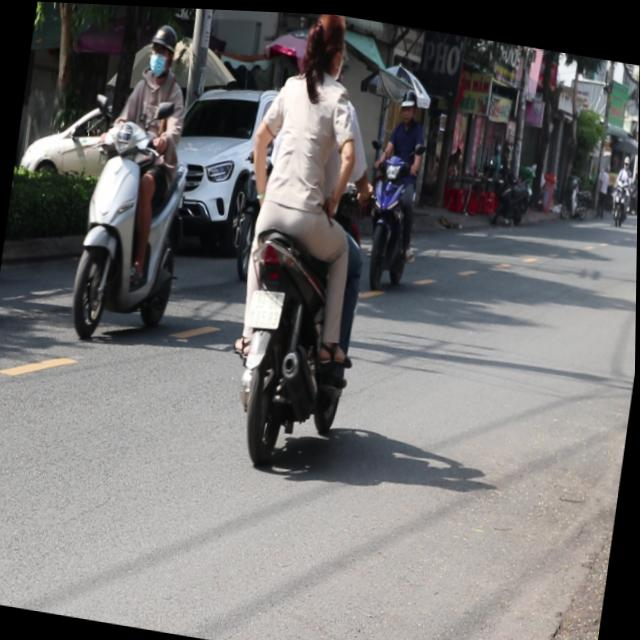helmet: (144, 19, 179, 79), (397, 84, 419, 123)
licenseplate: (207, 7, 401, 476), (61, 8, 214, 352), (359, 80, 435, 291)
motorcyclist: (299, 10, 350, 84)
nohelmet: (246, 285, 284, 326)
